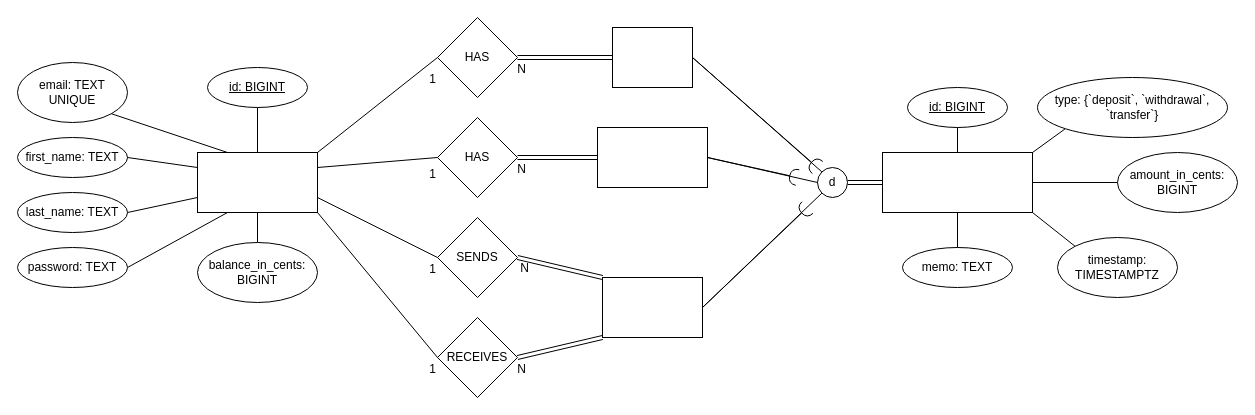
The diagram is 1255 pixels wide and 415 high, and some of its shapes have lost their labels. Each missing label, with the box of its shape:
ACCOUNT: (196, 152, 318, 212)
BANK_TRANSACTION: (882, 152, 1032, 212)
DEPOSIT: (612, 26, 692, 88)
TRANSFER: (602, 276, 702, 338)
WITHDRAWAL: (596, 126, 708, 188)
